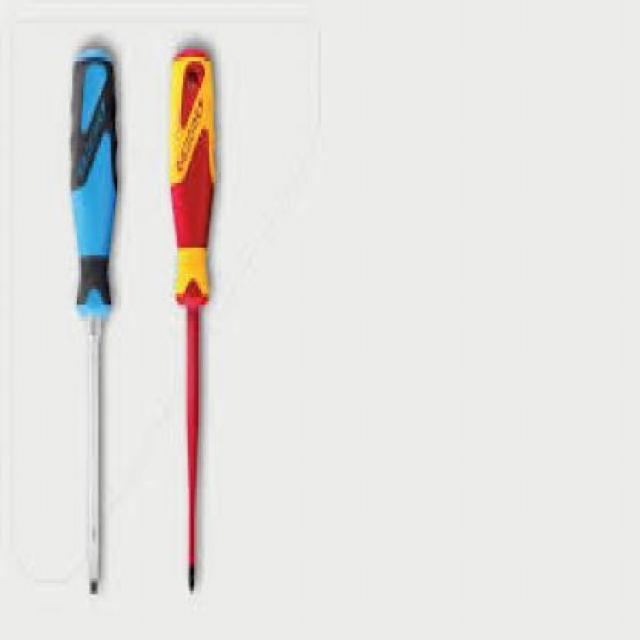screwdriver: (68, 53, 121, 598), (170, 49, 218, 591)
